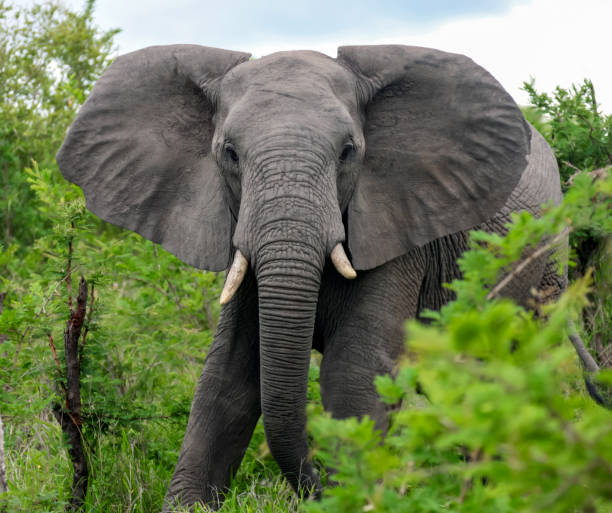africanelephant: (163, 39, 402, 397)
